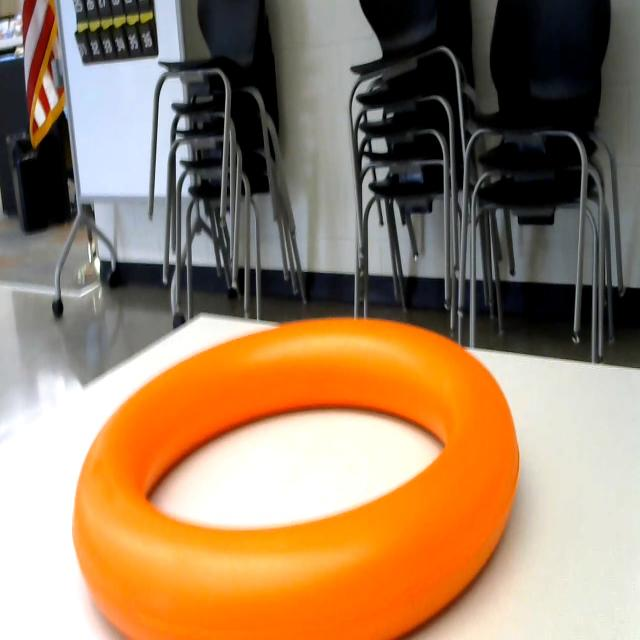note: (52, 300, 571, 640)
